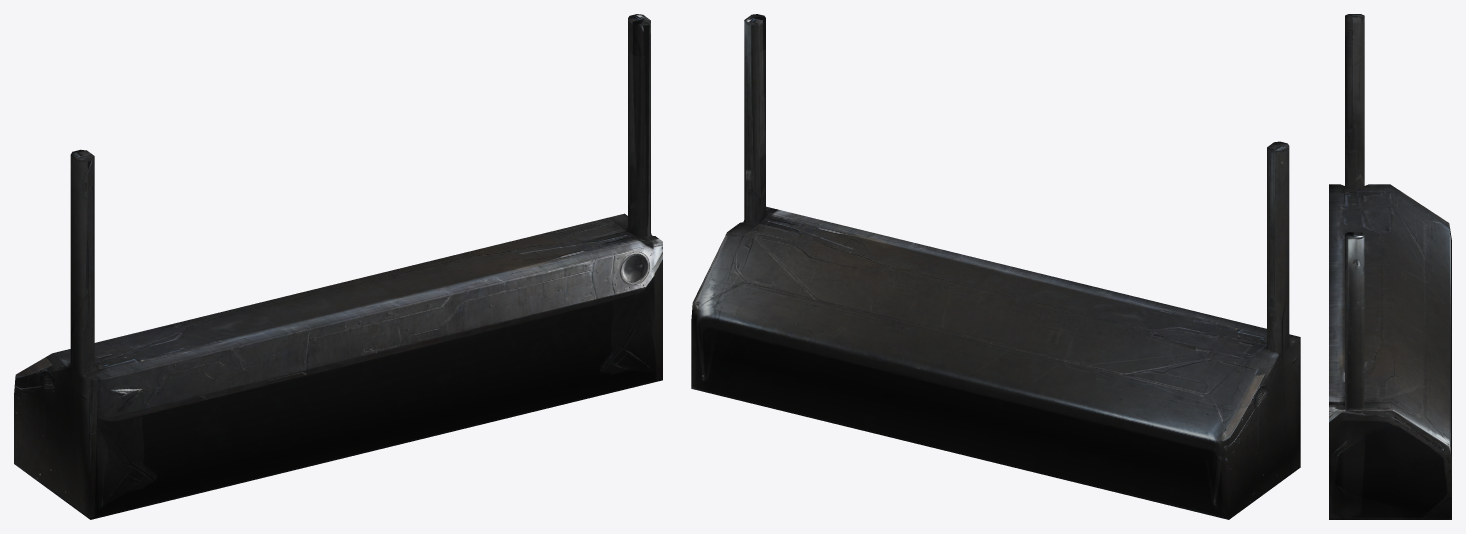
The model's file is _0609200959_texture.fbx.
3 views of the same model, side by side, from view 1: azimuth 30°, elevation 25°; view 2: azimuth 150°, elevation 25°; view 3: azimuth 270°, elevation 25° (orthographic). The views are drawn at different scales.
Visible parts, largest first — view 1: pCube26; view 2: pCube26; view 3: pCube26.
Part boxes in pixels (x1,y1,x2,y2): pCube26: (14, 14, 662, 519); pCube26: (691, 14, 1300, 519); pCube26: (1329, 14, 1451, 519).
Size of the model in its own units: 200 by 117 by 46.3.
1 material, 1 textured.
